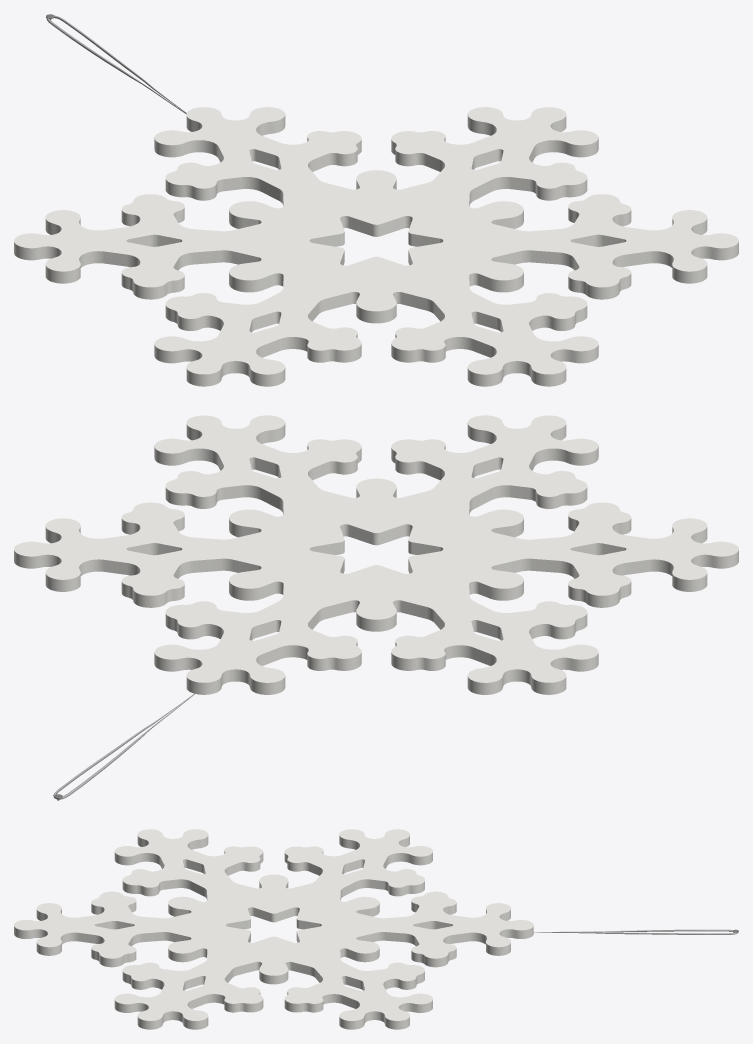
Rendered from largeflake.gltf.
3 views of the same model, one above another, from view 1: azimuth 30°, elevation 25°; view 2: azimuth 150°, elevation 25°; view 3: azimuth 270°, elevation 25° (orthographic). The views are drawn at different scales.
Parts seen in each view (by area): view 1: largeflake; view 2: largeflake; view 3: largeflake.
Part boxes in pixels (box(x1,y1,x2,y2)): largeflake: box(14, 14, 738, 386); largeflake: box(14, 415, 738, 800); largeflake: box(14, 829, 738, 1029).
Bounding box in the file's own units: 0.3801 × 0.00944 × 0.6071.
1 material, 1 textured.
